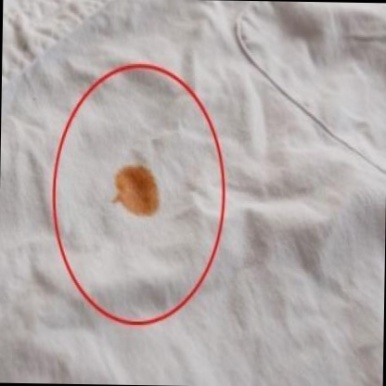kimchi: (98, 156, 169, 223)
